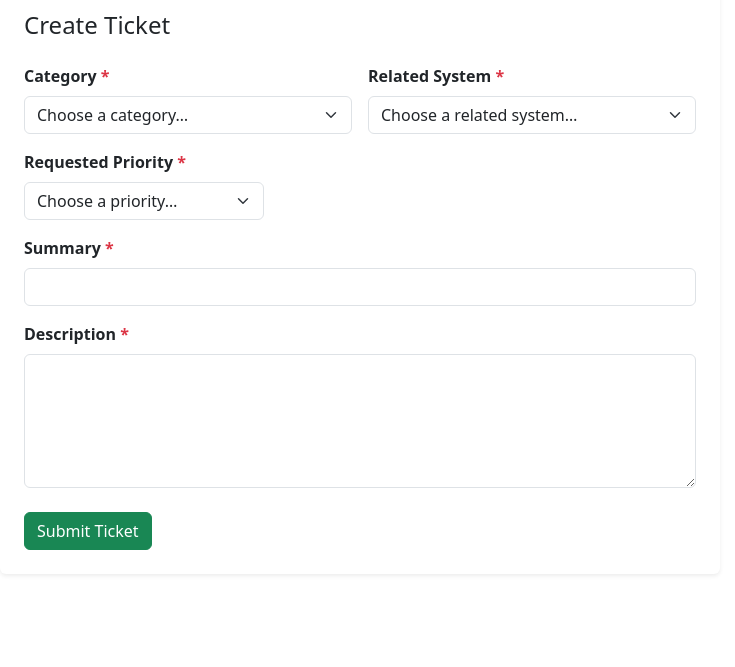
Scenario: CreateTicket › shows a safe error message and preserves field values on API failure (AC-06)
Type "Valid summary text" into the field labelled "Summary *" at (360, 287), box [24, 268, 696, 306]
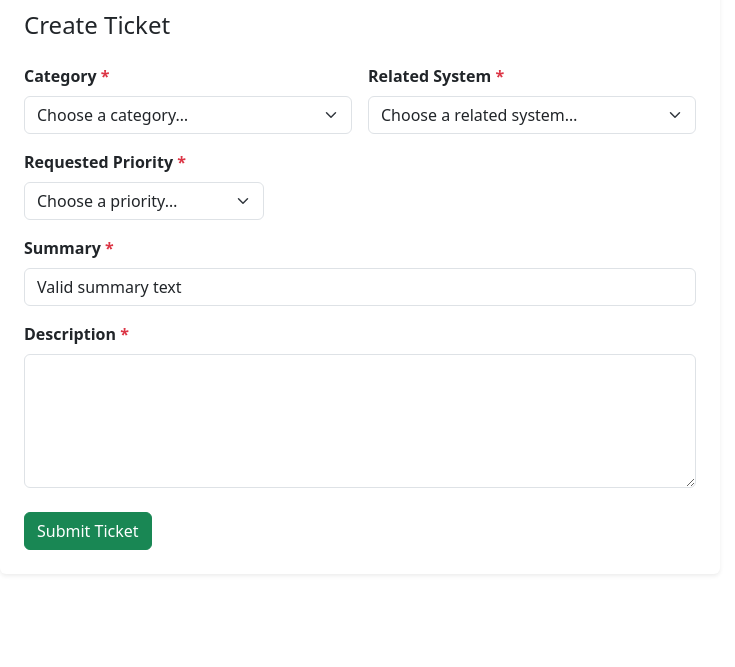
Type "A sufficiently long description." into the text box labelled "Description *" at (360, 421), box [24, 354, 696, 488]
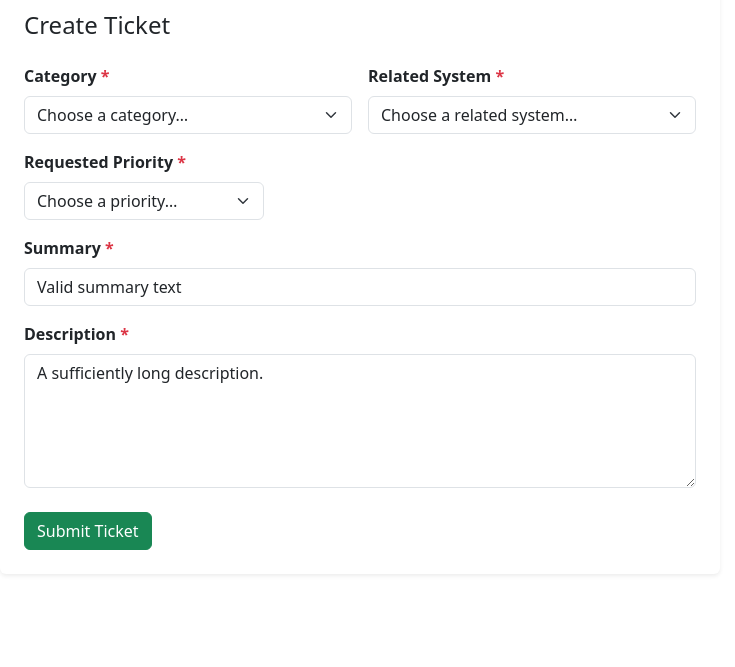
Select "Medium" in the dropdown labelled "Requested Priority *" at (144, 201), box [24, 182, 264, 220]
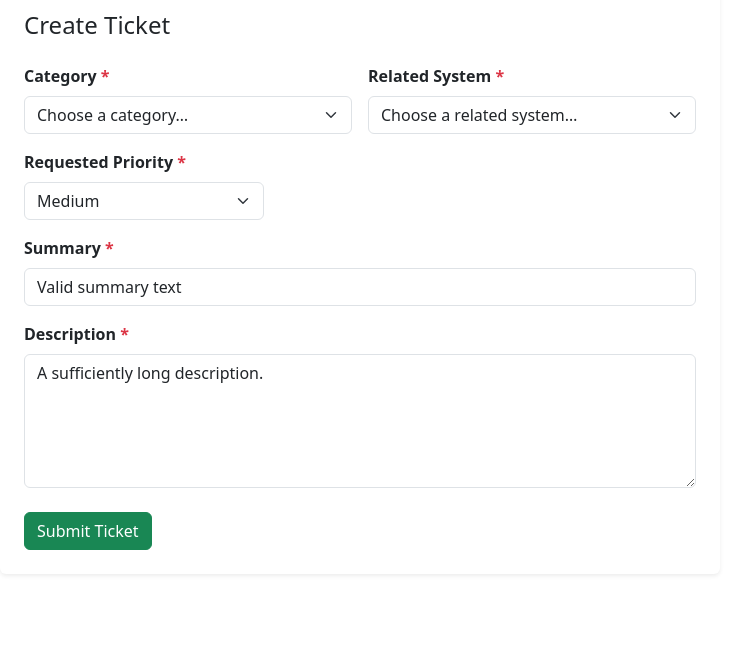
Select "Hardware" in the dropdown labelled "Category *" at (188, 115), box [24, 96, 352, 134]
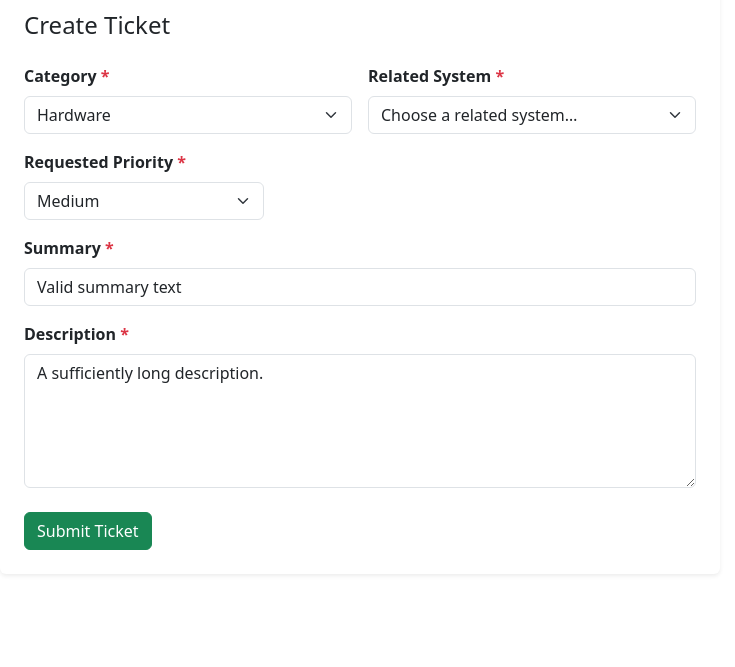
Select "VPN" in the dropdown labelled "Related System *" at (532, 115), box [368, 96, 696, 134]
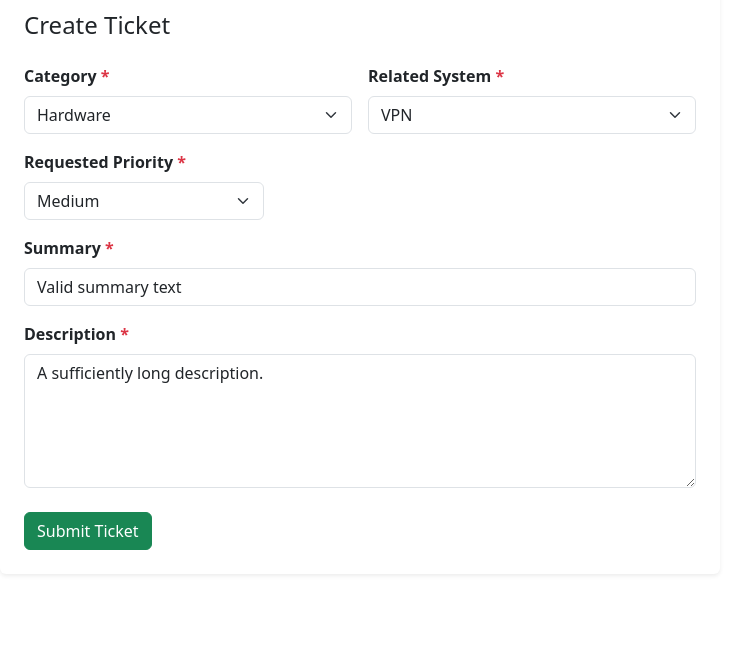
Click the button "Submit Ticket" at (88, 531), box [24, 512, 152, 550]
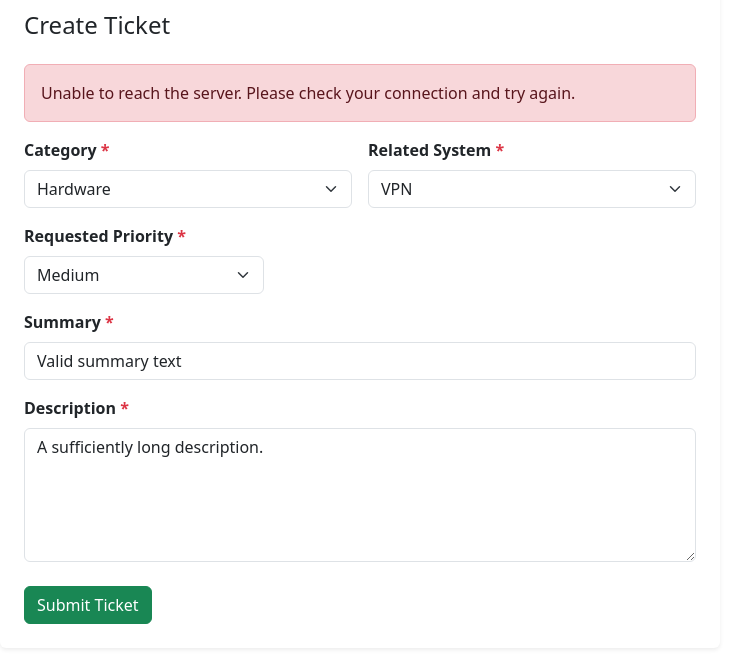
Expected: the text "Unable to reach the server" is shown, [41, 82, 575, 104]
